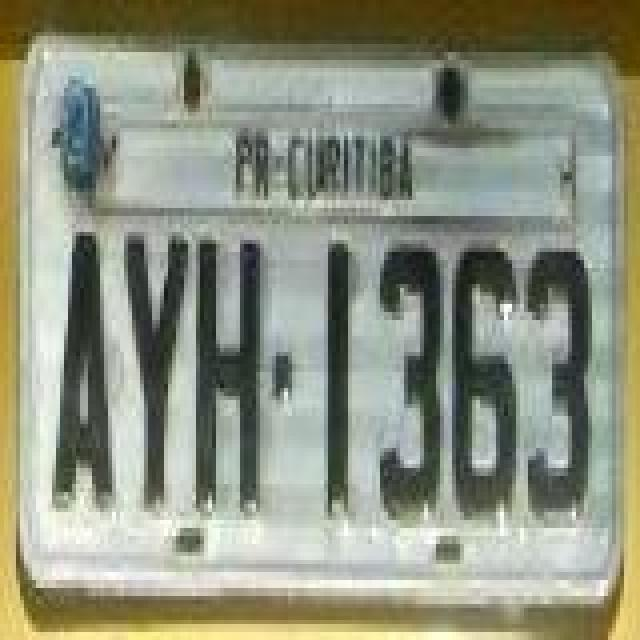1: (324, 238, 348, 514)
3: (524, 240, 596, 528), (374, 236, 442, 524)
6: (454, 236, 522, 524)
A: (52, 232, 116, 520)
H: (196, 236, 260, 524)
Y: (126, 228, 194, 516)
